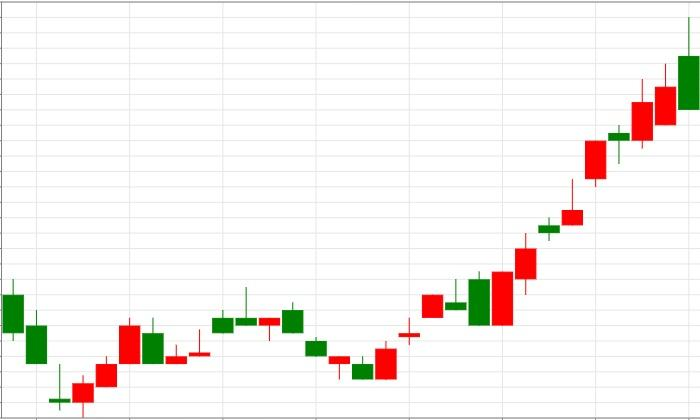bullish_engulfing_rise: (281, 301, 398, 381)
three_white_soldiers_rise: (2, 280, 142, 418)
